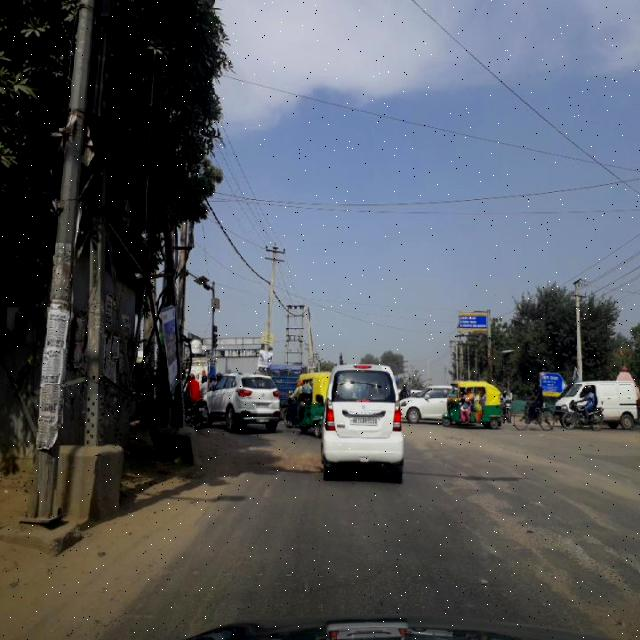D00: (482, 452, 593, 516)
D40: (534, 526, 630, 609), (438, 457, 532, 539)
